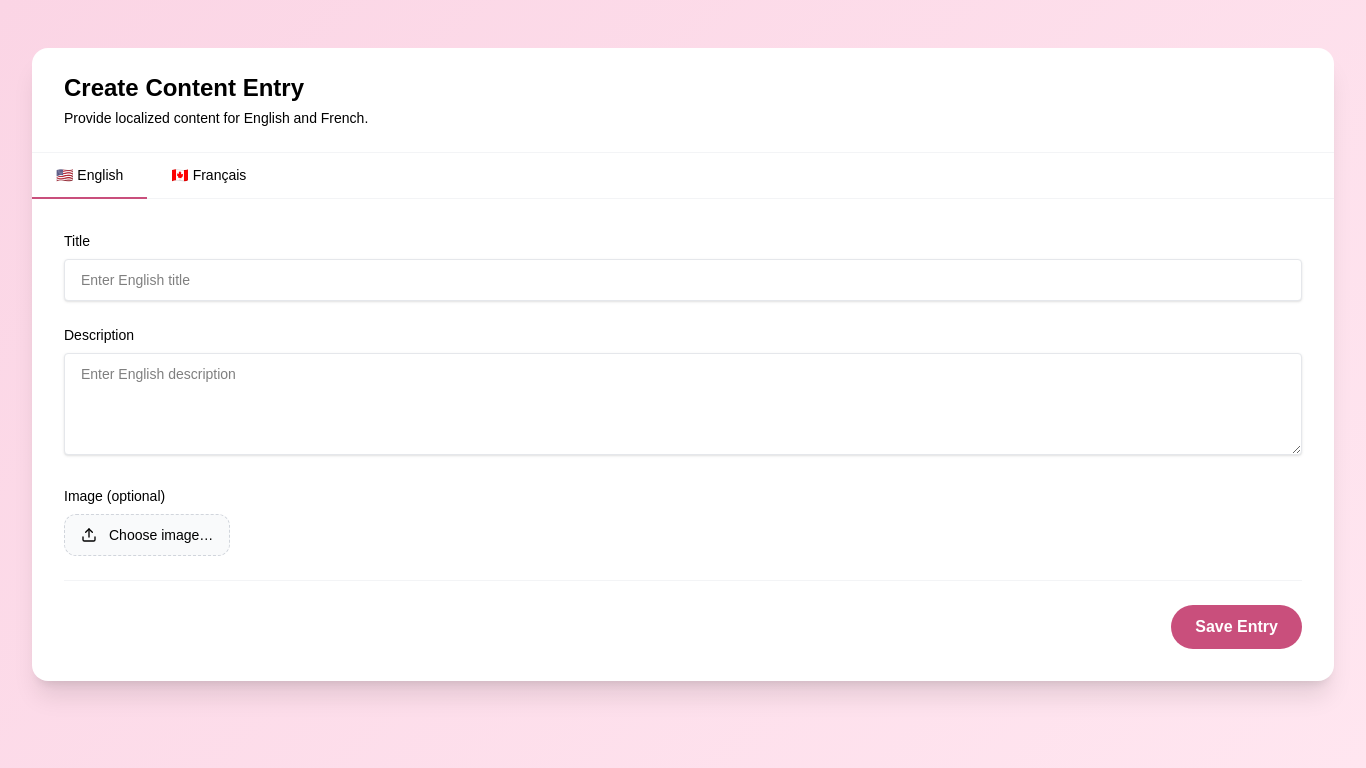
Test: ContentfulForm › Tab switching › preserves English field value when switching to another tab and back
This screenshot has width=1366, height=768.
In the field with placeholder "Enter English title": (683, 280) [64,259,1302,301], type "Hello"
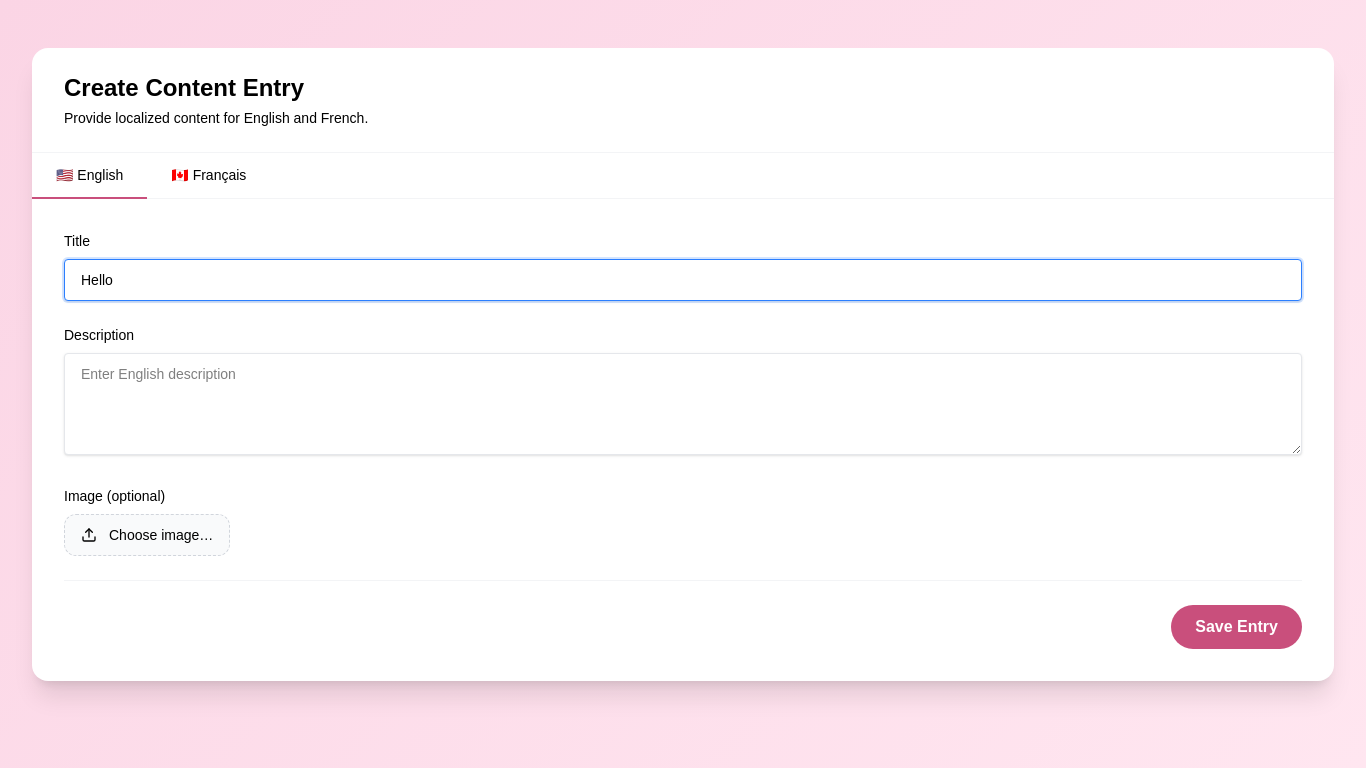
Click the button "🇨🇦 Français": (209, 176) [147,153,270,199]
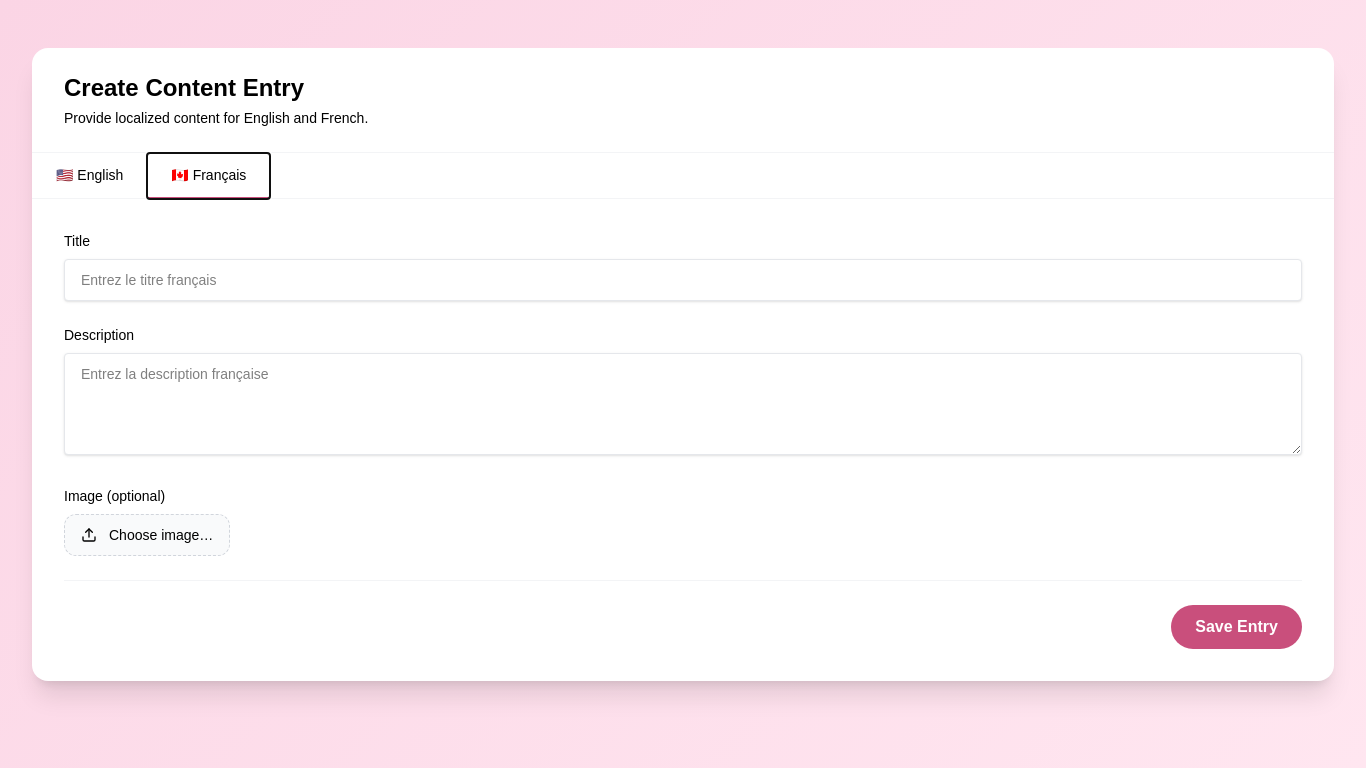
Click the button "🇺🇸 English": (90, 176) [32,153,147,199]
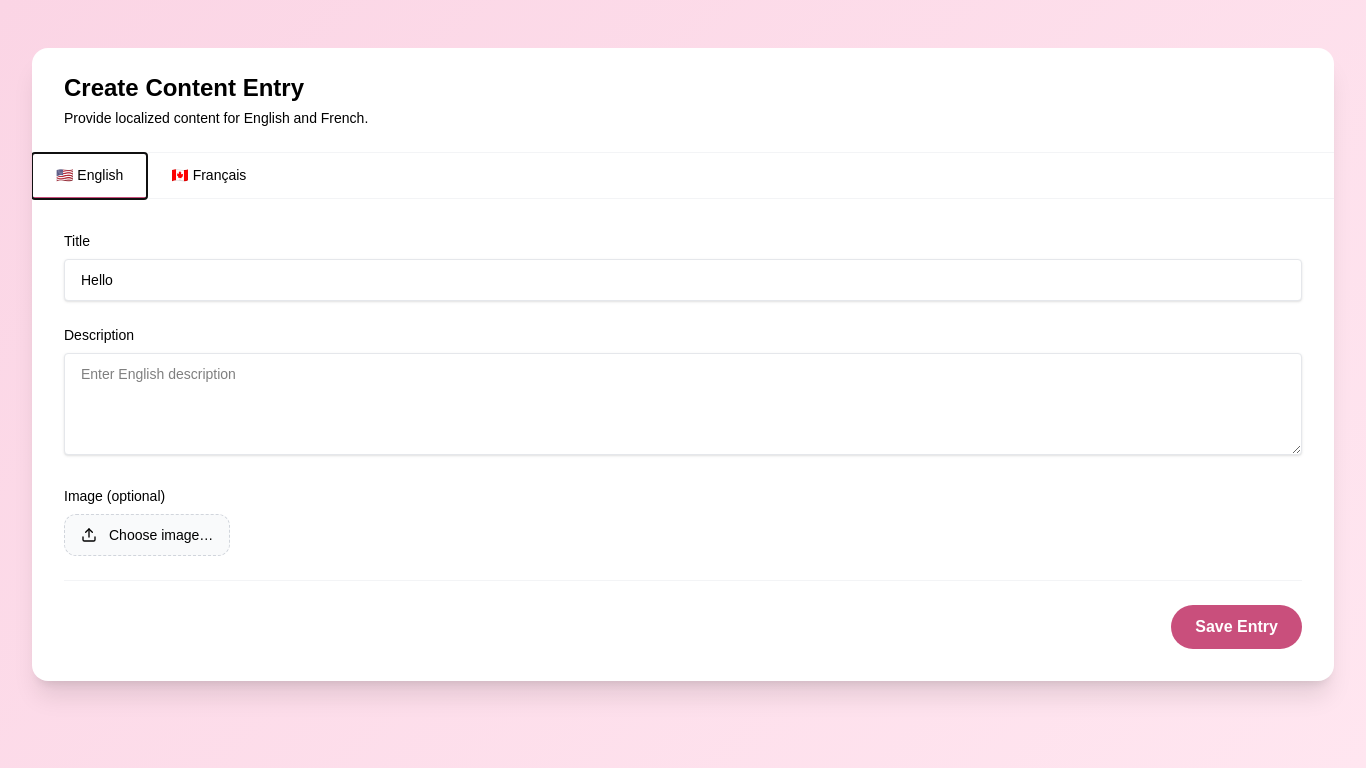
Expected: the field with placeholder "Enter English title" holds "Hello", [64,259,1302,301]
